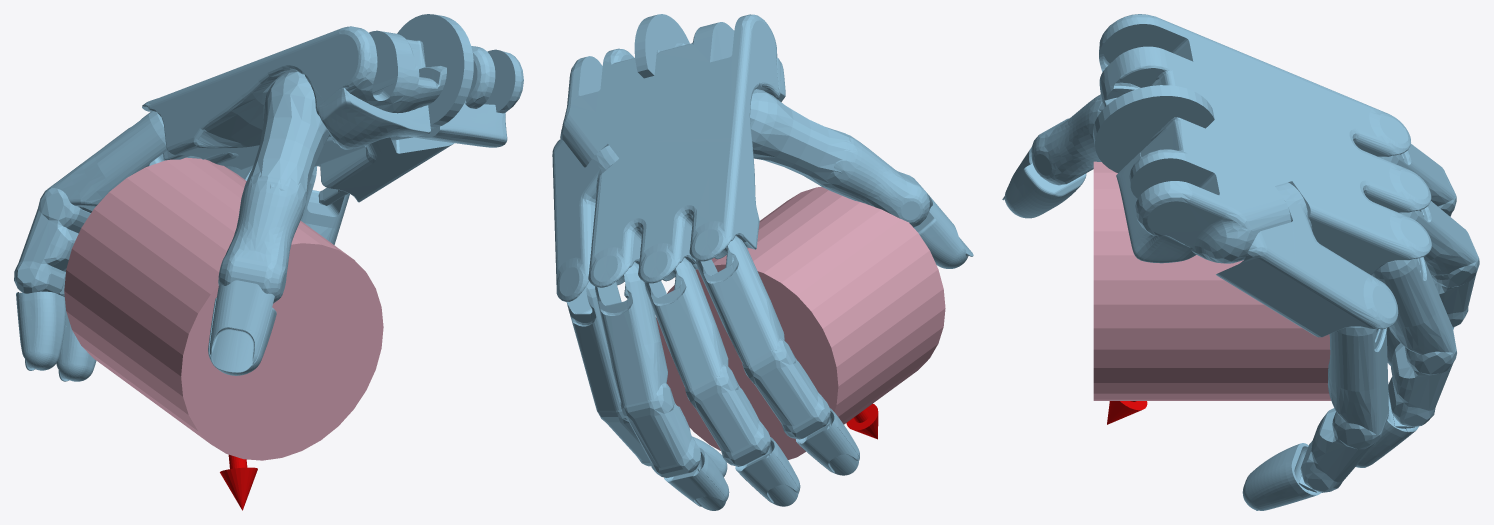
3 renders of one model, left to right at view 1: azimuth 30°, elevation 25°; view 2: azimuth 150°, elevation 25°; view 3: azimuth 270°, elevation 25°, orthographic. The views are drawn at different scales.
Visible parts, largest first — view 1: world, cylinder_medium.stl; view 2: world, cylinder_medium.stl; view 3: world, cylinder_medium.stl.
Part boxes in pixels (box(x1,y1,x2,y2)): world: box(14, 14, 523, 510); cylinder_medium.stl: box(64, 157, 383, 460); world: box(552, 14, 973, 510); cylinder_medium.stl: box(656, 187, 945, 459); world: box(1002, 14, 1479, 510); cylinder_medium.stl: box(1093, 161, 1331, 400).
Size of the model in its own units: 0.1583 by 0.1752 by 0.1508.
